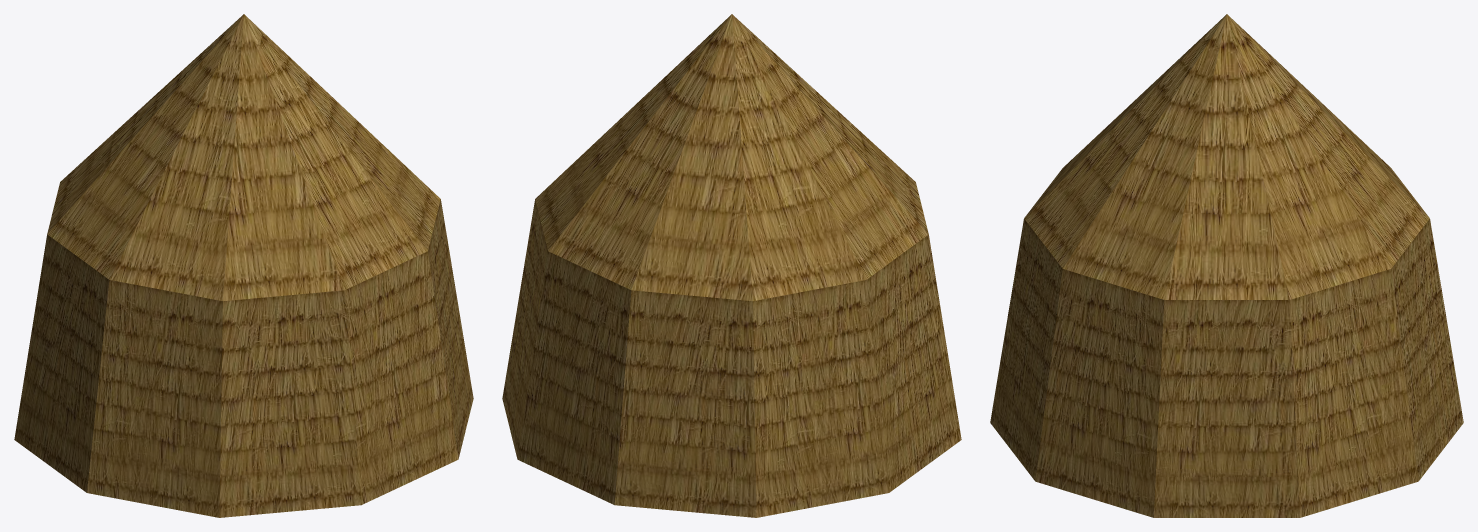
Rendered from haystack_01.glb.
3 renders of one model, left to right at view 1: azimuth 30°, elevation 25°; view 2: azimuth 150°, elevation 25°; view 3: azimuth 270°, elevation 25°, orthographic.
Visible parts, largest first — view 1: haystack_01; view 2: haystack_01; view 3: haystack_01.
Part boxes in pixels (<box>): haystack_01: <box>14,14,473,517</box>; haystack_01: <box>502,14,961,517</box>; haystack_01: <box>990,14,1463,517</box>.
Bounding box in the file's own units: 2 × 2 × 2.1.
Materials: 1 (1 with a texture image).
